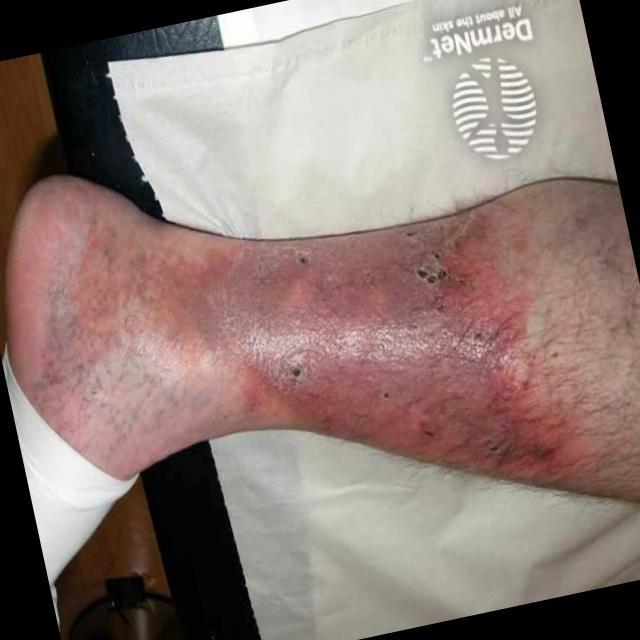Eczema: (74, 233, 518, 464)
